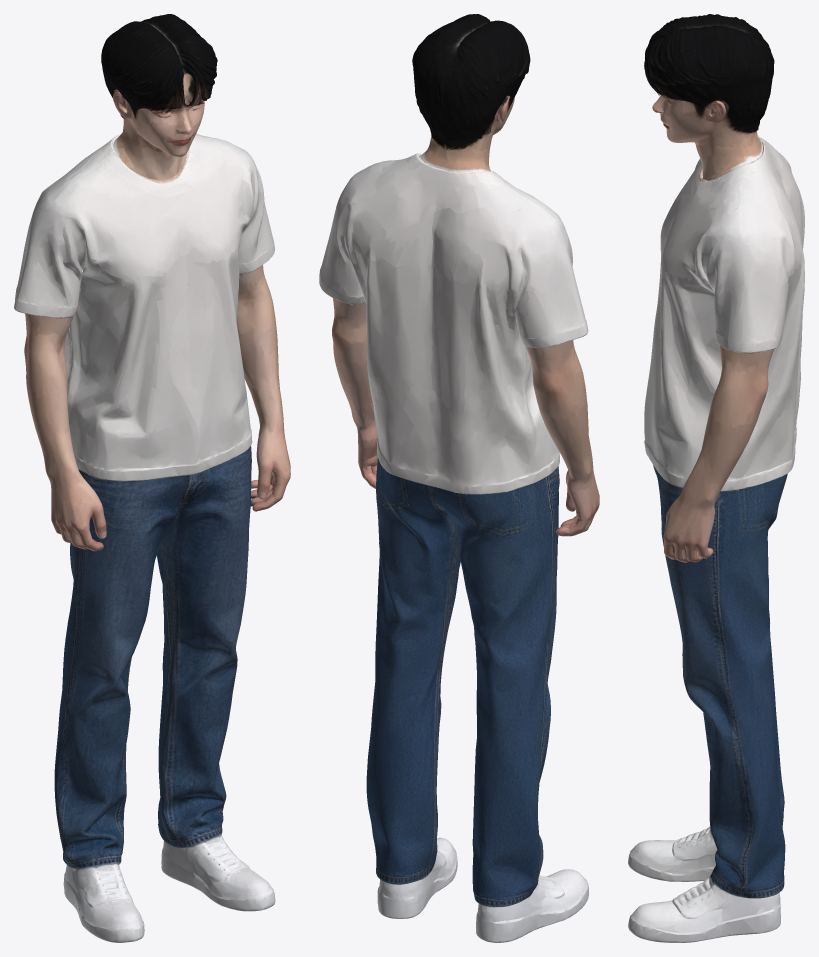
The model's file is male.glb.
3 views of the same model, side by side, from view 1: azimuth 30°, elevation 25°; view 2: azimuth 150°, elevation 25°; view 3: azimuth 270°, elevation 25° (orthographic).
Bounding box in the file's own units: 0.5922 × 1.9 × 0.3462.
1 material, 1 textured.
